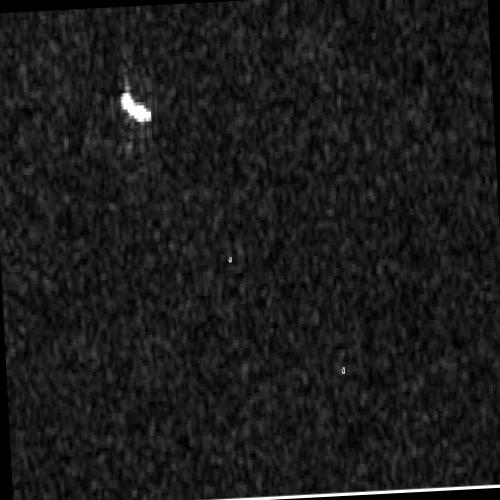ship: (119, 92, 153, 124)
